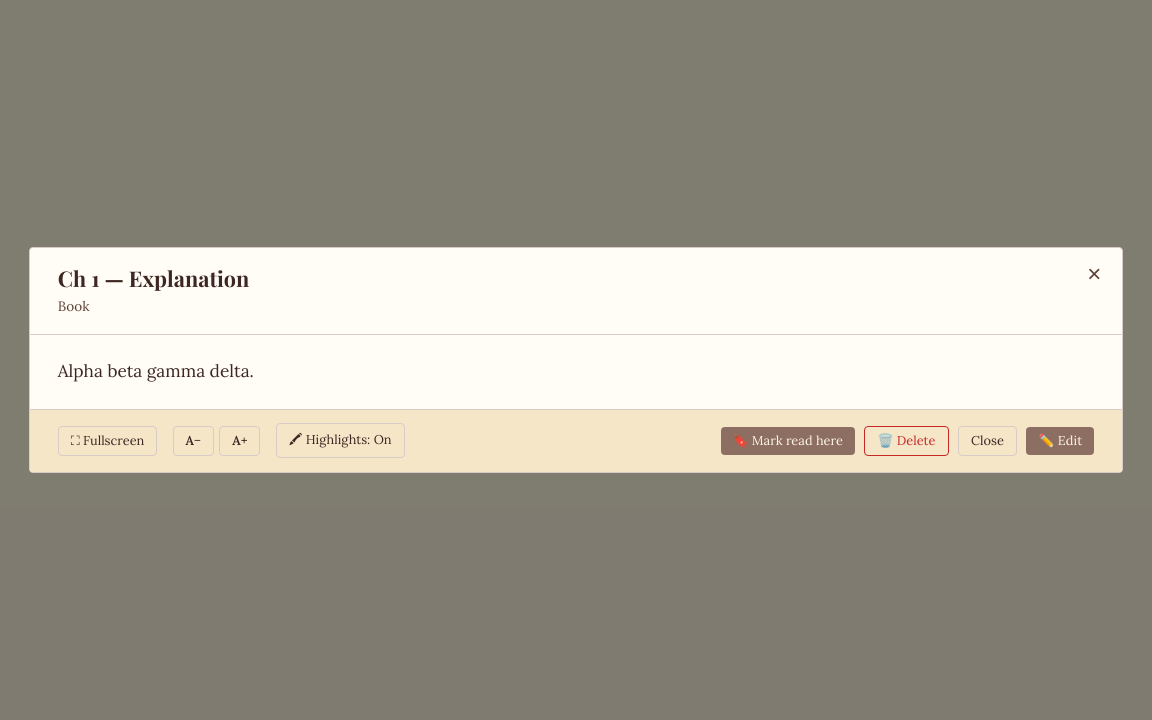
Test: ChapterExplanationModal reading controls › closes only the confirmation on Esc
Click the button "🗑️ Delete". click: (906, 441)
box: [864, 426, 948, 456]
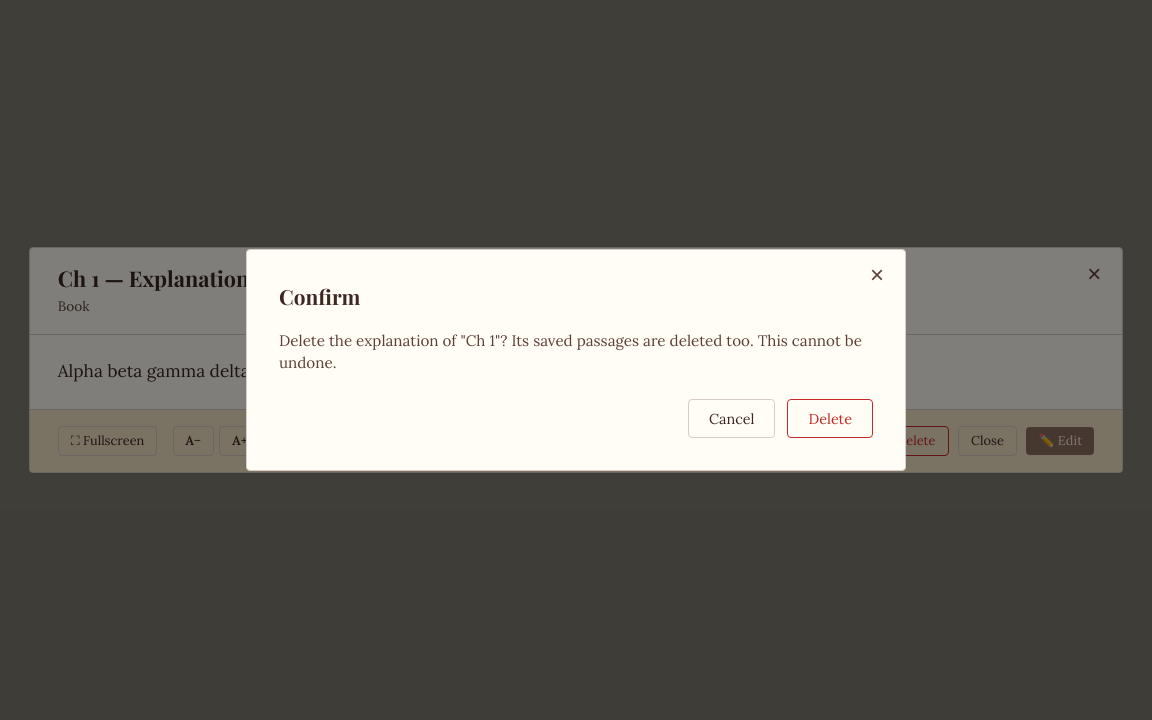
Press Escape
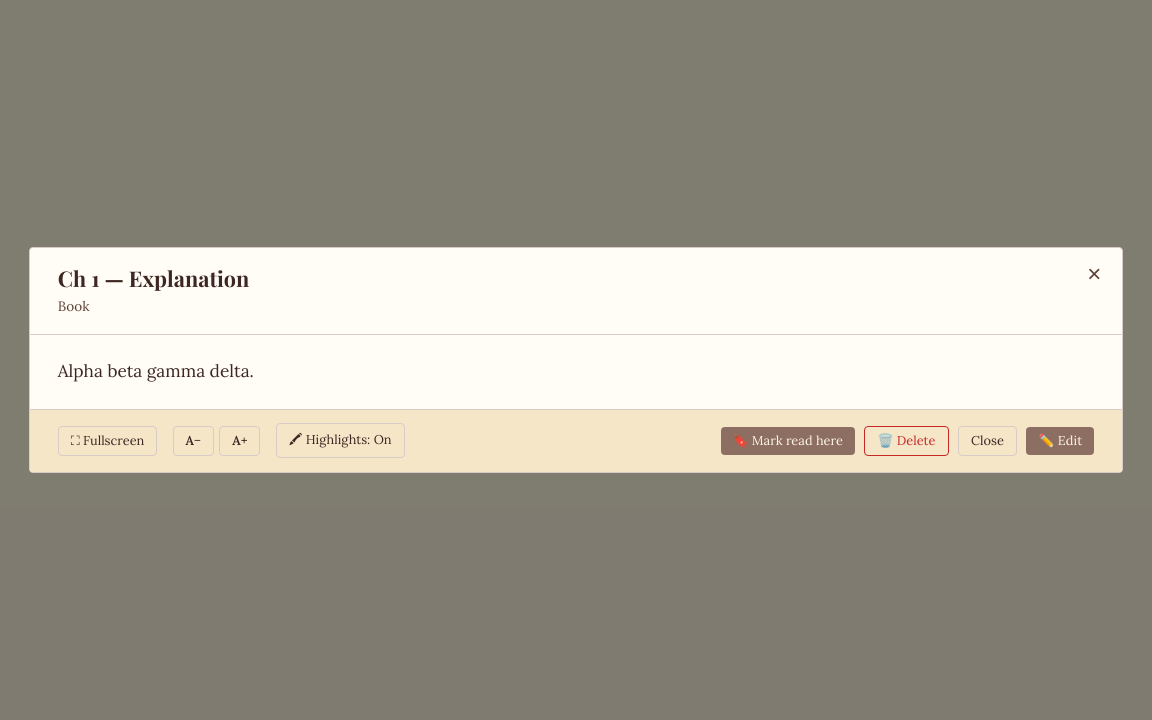
Check: the text "Delete the explanation of" is gone
